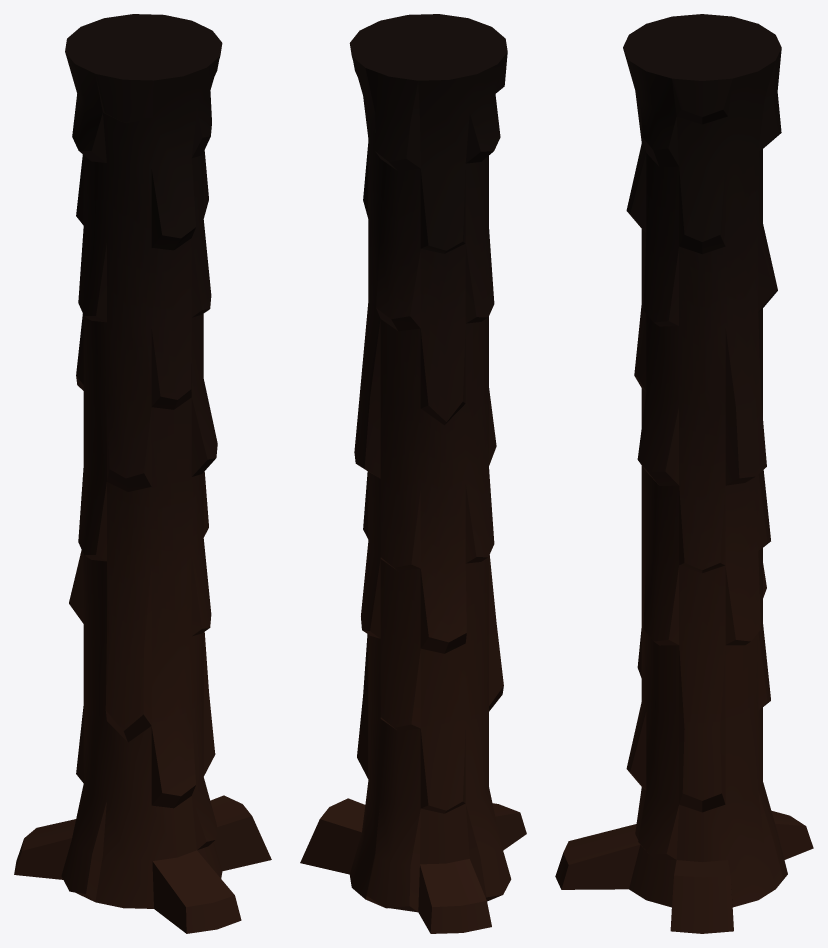
File: Trunk_01.fbx
The picture shows the model from 3 angles, left to right: view 1: azimuth 30°, elevation 25°; view 2: azimuth 150°, elevation 25°; view 3: azimuth 270°, elevation 25°; orthographic projection.
Visible parts, largest first — view 1: Trunk_01; view 2: Trunk_01; view 3: Trunk_01.
Boxes of the visible parts, box(x1,y1,x2,y2) form: Trunk_01: box(14, 14, 271, 933); Trunk_01: box(300, 14, 526, 933); Trunk_01: box(555, 14, 813, 933).
Bounding box in the file's own units: 186 × 687 × 194.
